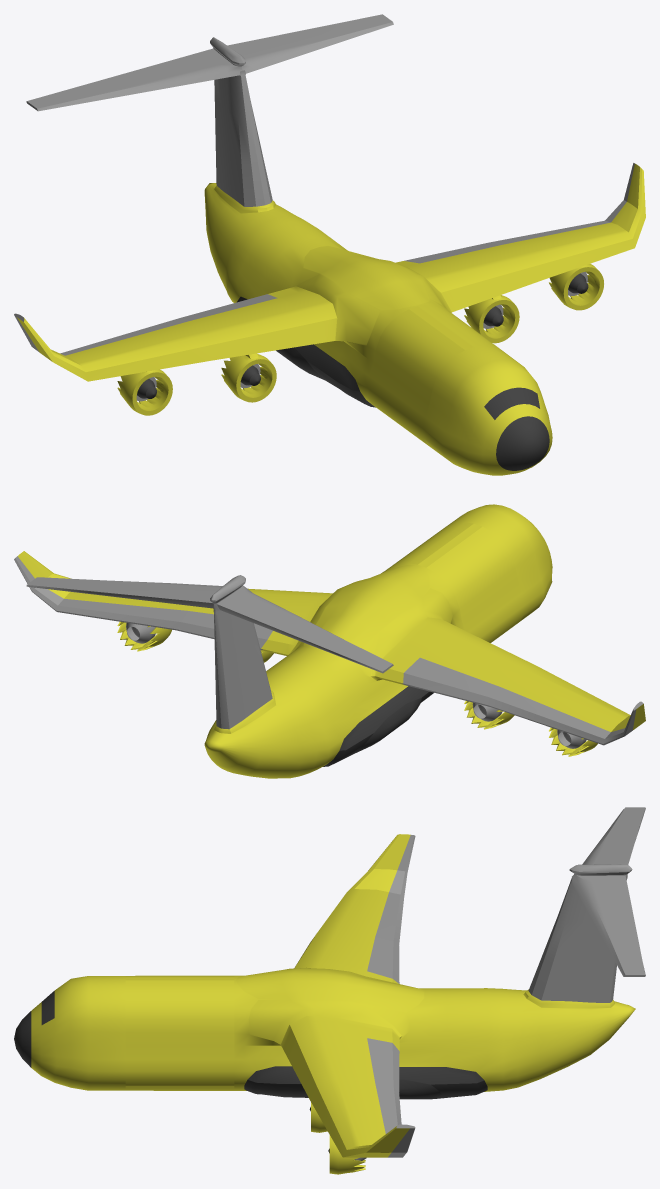
File: kargoUcak.fbx
3 renders of one model, top to bottom at view 1: azimuth 30°, elevation 25°; view 2: azimuth 150°, elevation 25°; view 3: azimuth 270°, elevation 25°, orthographic. The views are drawn at different scales.
Parts seen in each view (by area): view 1: ucak, kuyruk, kanat1, kanat2, kapiSol, motor2, motor1, motor3, motor4, kapiSag; view 2: ucak, kanat1, kuyruk, kanat2, kapiSol, motor4, kapiSag, motor2, motor1; view 3: ucak, kanat2, kuyruk, kapiSag, kanat1, motor4.
Part boxes in pixels (<box>): ucak: <box>204,183,552,475</box>; kuyruk: <box>26,14,393,206</box>; kanat1: <box>14,286,337,381</box>; kanat2: <box>395,163,645,312</box>; kapiSol: <box>366,309,464,444</box>; motor2: <box>221,353,276,402</box>; motor1: <box>117,369,172,415</box>; motor3: <box>464,295,519,343</box>; motor4: <box>549,264,603,310</box>; kapiSag: <box>418,305,504,352</box>; ucak: <box>204,504,552,778</box>; kanat1: <box>375,617,645,745</box>; kuyruk: <box>26,575,393,729</box>; kanat2: <box>14,551,332,655</box>; kapiSol: <box>426,526,524,642</box>; motor4: <box>117,621,171,651</box>; kapiSag: <box>387,522,473,569</box>; motor2: <box>464,701,514,729</box>; motor1: <box>549,727,597,756</box>; ucak: <box>14,967,635,1099</box>; kanat2: <box>280,1016,415,1157</box>; kuyruk: <box>528,807,645,1002</box>; kapiSag: <box>125,980,234,1085</box>; kanat1: <box>294,834,415,983</box>; motor4: <box>328,1135,366,1174</box>.
Size of the model in its own units: 1363 by 487 by 1247.
